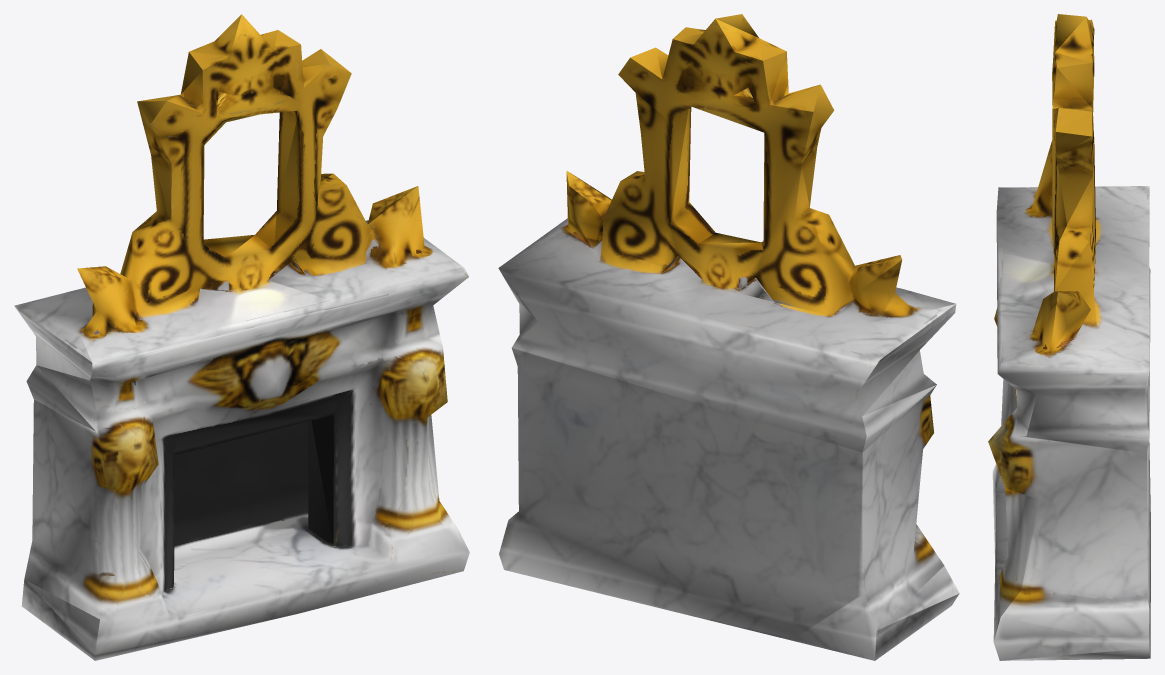
The model's file is marble-fireplace.glb.
The picture shows the model from 3 angles, left to right: view 1: azimuth 30°, elevation 25°; view 2: azimuth 150°, elevation 25°; view 3: azimuth 270°, elevation 25°; orthographic projection. The views are drawn at different scales.
Parts seen in each view (by area): view 1: geometry_0.001; view 2: geometry_0.001; view 3: geometry_0.001.
Boxes of the visible parts, <box> form: geometry_0.001: <box>14,14,469,660</box>; geometry_0.001: <box>498,14,959,660</box>; geometry_0.001: <box>988,14,1150,660</box>.
Size of the model in its own units: 0.698 by 1 by 0.2643.
Materials: 1 (1 with a texture image).
